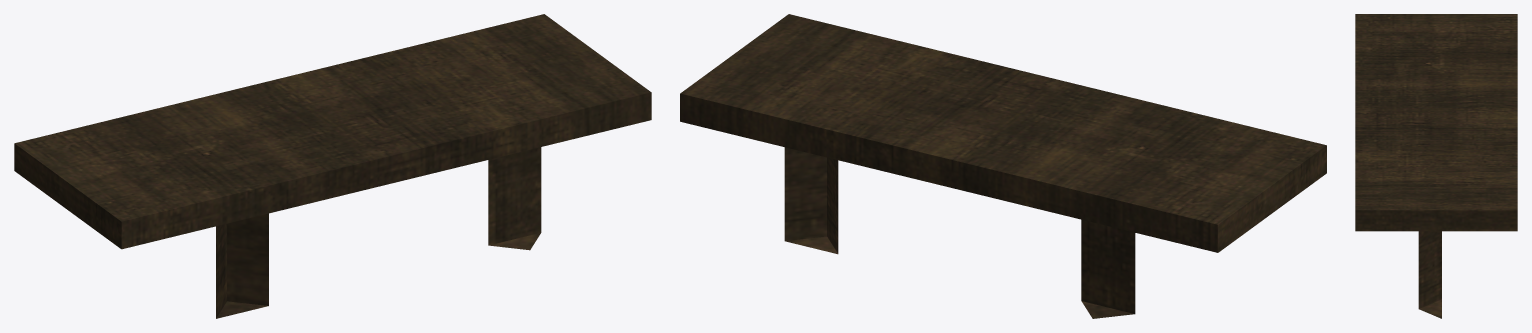
File: shower_bench.glb
3 views of the same model, side by side, from view 1: azimuth 30°, elevation 25°; view 2: azimuth 150°, elevation 25°; view 3: azimuth 270°, elevation 25° (orthographic). The views are drawn at different scales.
Visible parts, largest first — view 1: Bench; view 2: Bench; view 3: Bench.
Boxes of the visible parts, left/top/right/bottom form: Bench: left=14, top=14, right=651, bottom=318; Bench: left=680, top=14, right=1326, bottom=318; Bench: left=1355, top=14, right=1517, bottom=318.
Size of what is drawn, in the model's own units: 2 by 0.6099 by 0.7.
Materials: 1 (1 with a texture image).
